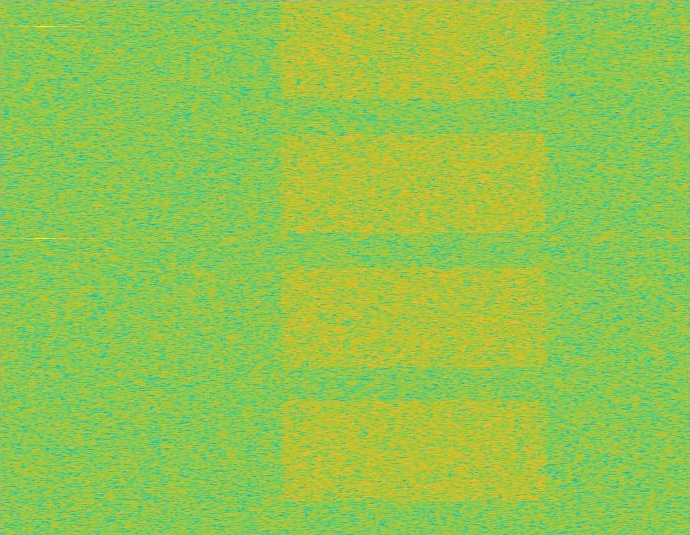5G: (276, 0, 552, 534)
Radar: (38, 0, 52, 534)
